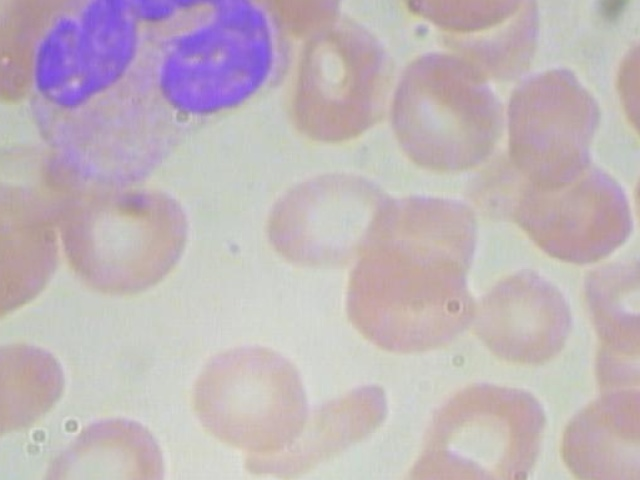RBC: (50, 176, 203, 301), (386, 50, 510, 179), (262, 169, 408, 278), (339, 240, 478, 354), (188, 333, 310, 459), (500, 58, 611, 189), (280, 12, 391, 143), (414, 380, 557, 480), (469, 265, 577, 373), (37, 409, 178, 480), (0, 336, 79, 443), (550, 387, 640, 480), (576, 252, 640, 356), (631, 146, 640, 257)
WBC: (0, 0, 290, 184)
